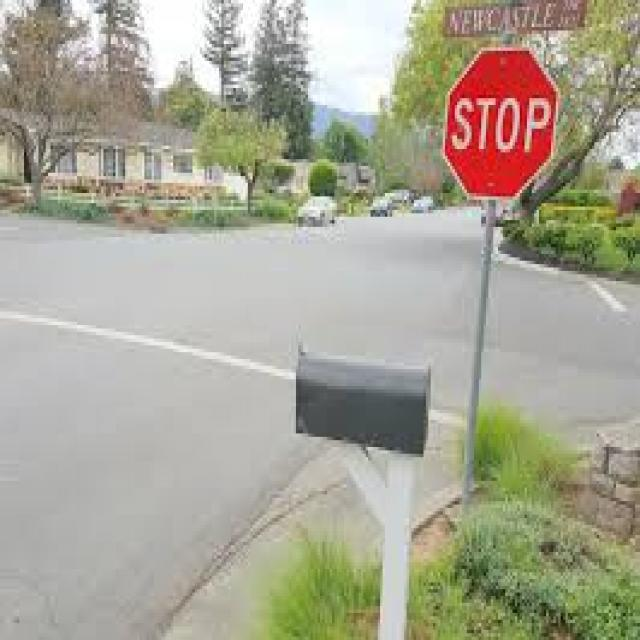stop-sign: (439, 37, 565, 200)
